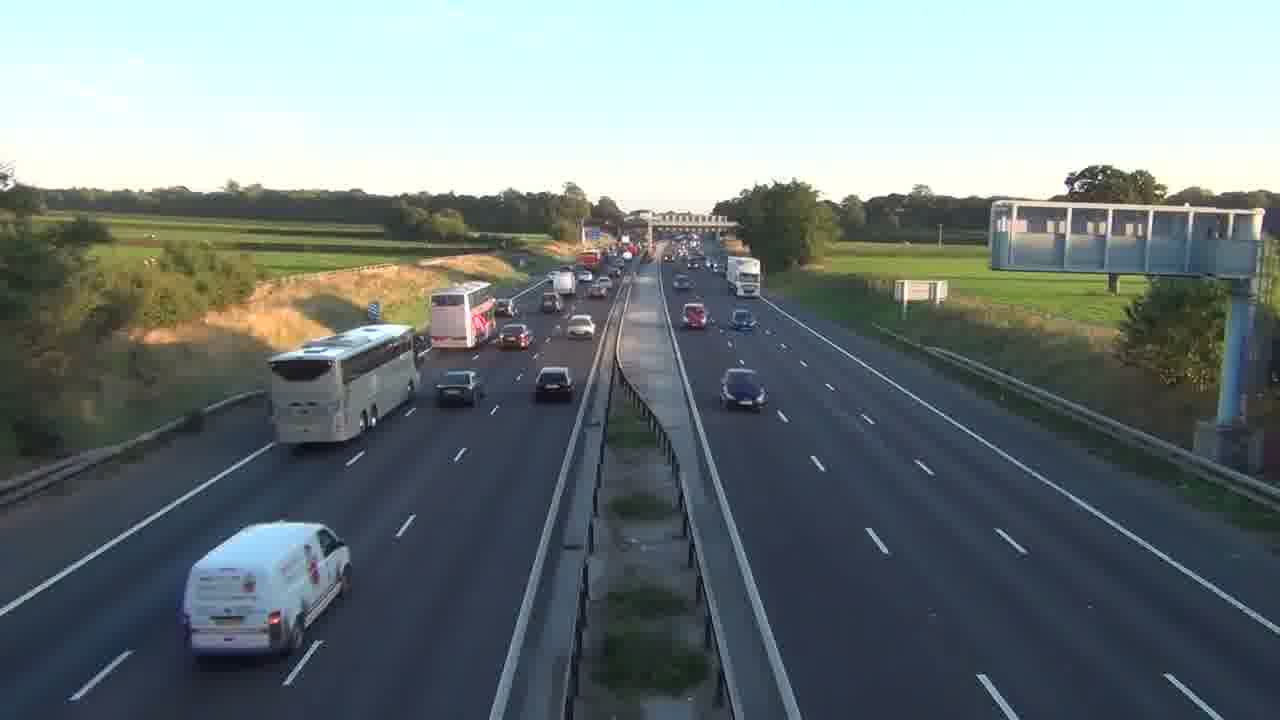bus: (268, 321, 423, 447), (430, 284, 497, 349)
car: (720, 367, 767, 409), (435, 368, 483, 408), (534, 365, 575, 402), (496, 322, 531, 350), (567, 314, 595, 340), (682, 302, 707, 329), (731, 307, 755, 331)
truck: (178, 520, 353, 665), (435, 368, 483, 408), (728, 257, 761, 297)
